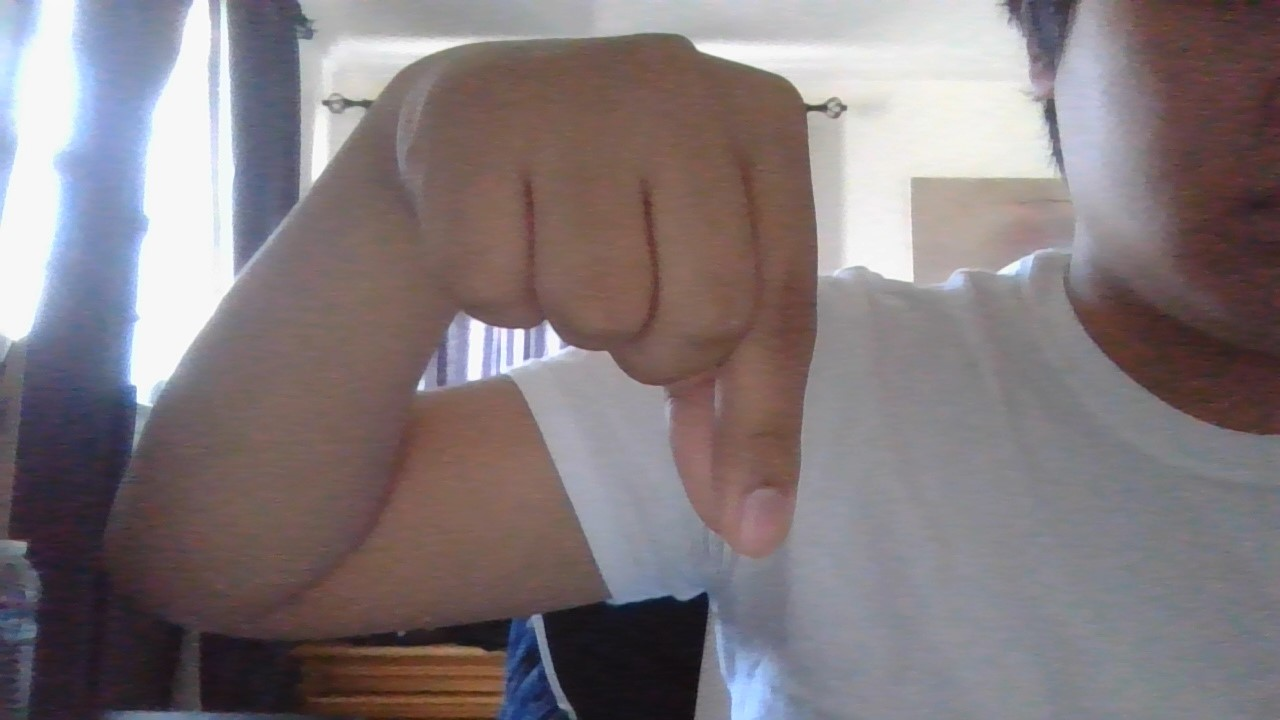q: (379, 22, 918, 591)
